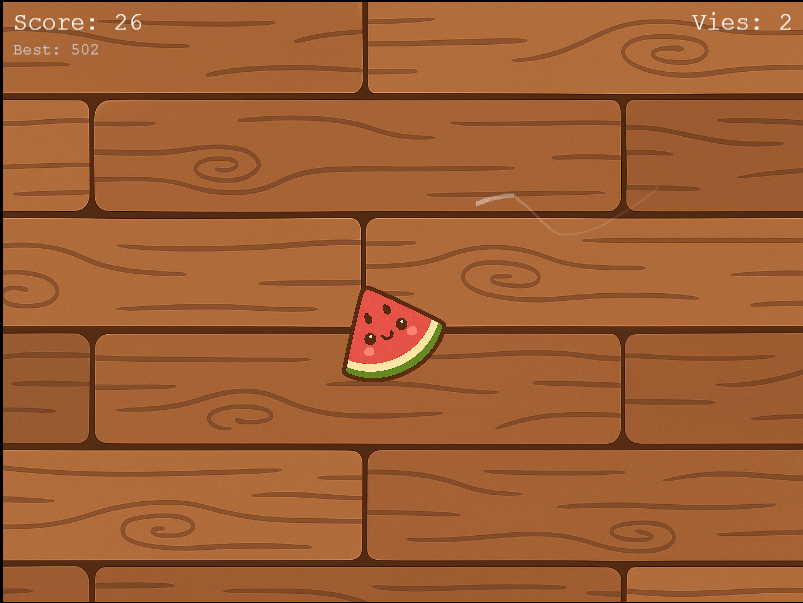fruit: (332, 280, 450, 398)
